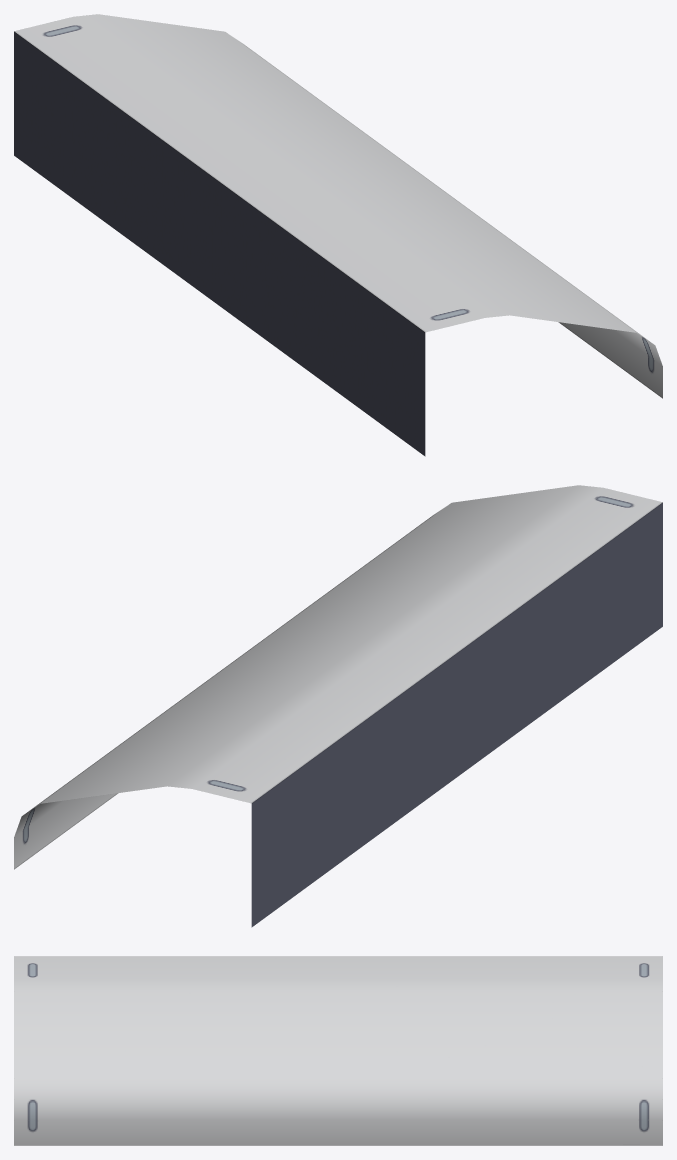
The model's file is Roof_Border_Line_01_LP.FBX.
3 renders of one model, top to bottom at view 1: azimuth 30°, elevation 25°; view 2: azimuth 150°, elevation 25°; view 3: azimuth 270°, elevation 25°, orthographic. The views are drawn at different scales.
Parts seen in each view (by area): view 1: Roof_Border_Line_01_LP; view 2: Roof_Border_Line_01_LP; view 3: Roof_Border_Line_01_LP.
Boxes of the visible parts, x1,y1,x2,y2 form: Roof_Border_Line_01_LP: [14, 14, 662, 456]; Roof_Border_Line_01_LP: [14, 485, 662, 927]; Roof_Border_Line_01_LP: [14, 956, 662, 1145].
Bounding box in the file's own units: 2 × 1 × 6.
